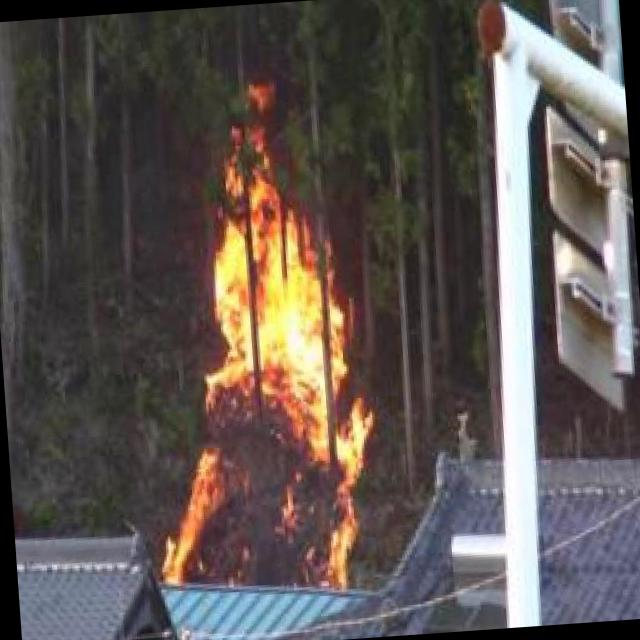Fire: (126, 50, 392, 612)
